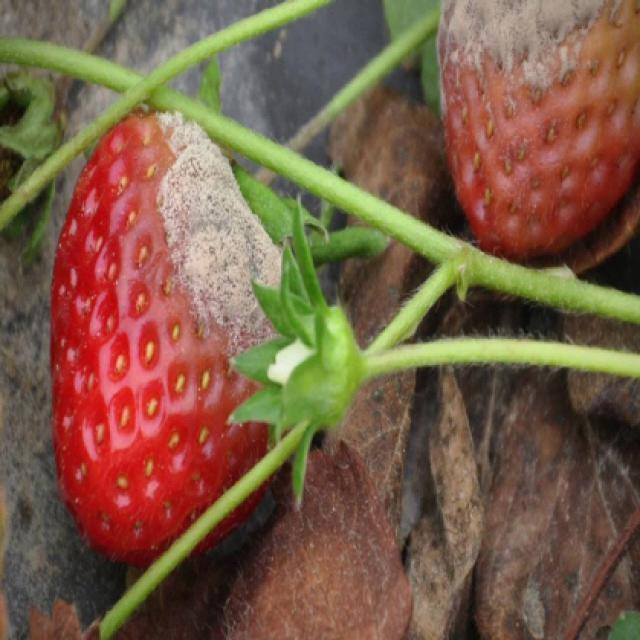Gray Mold: (49, 111, 284, 572)
